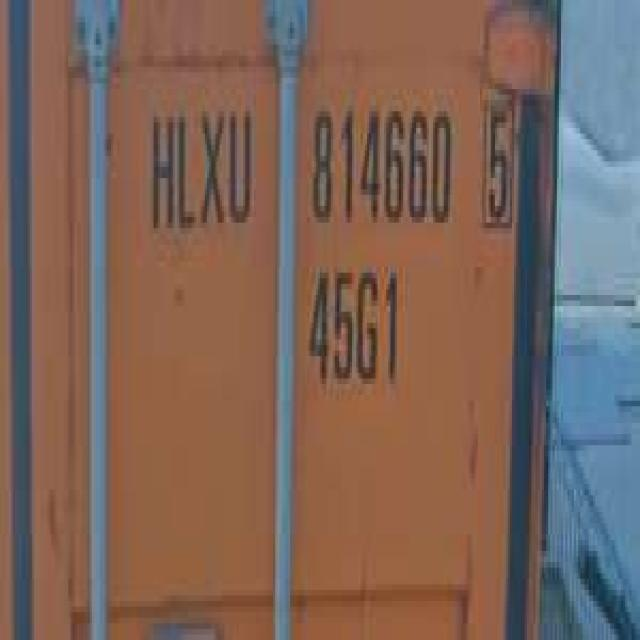dv: (482, 93, 516, 226)
owner: (145, 102, 255, 235)
serial: (306, 92, 454, 235)
size: (306, 262, 404, 400)
